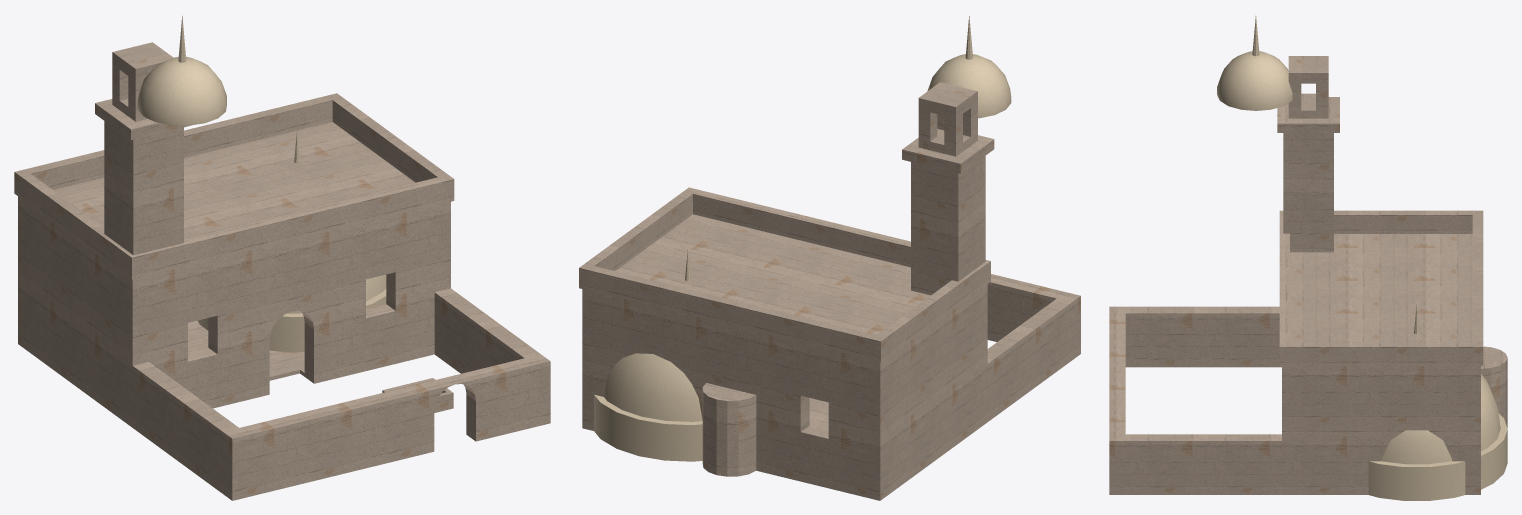
The model's file is small_1.glb.
The picture shows the model from 3 angles, left to right: view 1: azimuth 30°, elevation 25°; view 2: azimuth 150°, elevation 25°; view 3: azimuth 270°, elevation 25°; orthographic projection. The views are drawn at different scales.
Parts seen in each view (by area): view 1: mosque_small; view 2: mosque_small; view 3: mosque_small.
Part boxes in pixels (x1=…): mosque_small: x1=14, y1=15, x2=550, y2=500; mosque_small: x1=579, y1=16, x2=1080, y2=500; mosque_small: x1=1109, y1=16, x2=1507, y2=500.
Bounding box in the file's own units: 7.21 × 8.53 × 8.53.
2 materials, 2 textured.
